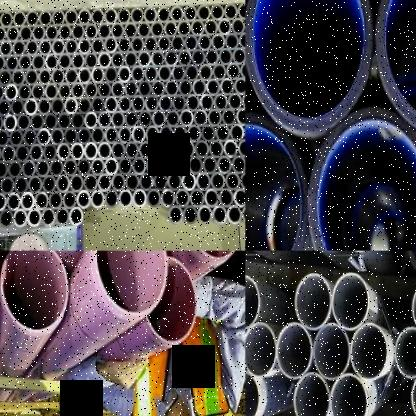pipe: (245, 0, 373, 132), (307, 108, 416, 250), (245, 113, 306, 251), (375, 0, 415, 135), (1, 250, 67, 330), (96, 250, 167, 312), (148, 256, 198, 343), (350, 322, 387, 381), (332, 272, 369, 331), (294, 273, 332, 330), (313, 323, 350, 380), (276, 323, 313, 379), (245, 322, 276, 377), (330, 372, 368, 416), (293, 372, 330, 416), (393, 326, 416, 378), (245, 275, 260, 331), (245, 370, 260, 416), (168, 204, 184, 226), (118, 188, 134, 209), (160, 188, 176, 209), (204, 188, 220, 209), (210, 171, 226, 192), (202, 155, 218, 176), (42, 142, 58, 163), (194, 139, 210, 160), (186, 123, 202, 144), (26, 207, 42, 228), (6, 191, 21, 213), (218, 187, 233, 209), (55, 206, 70, 228), (138, 172, 154, 192), (226, 205, 242, 225), (48, 190, 63, 211), (76, 189, 91, 210), (90, 189, 105, 210), (132, 188, 147, 209), (146, 188, 161, 209), (175, 188, 190, 209), (111, 172, 126, 193), (125, 172, 140, 193), (225, 171, 240, 192), (7, 159, 22, 180), (35, 158, 50, 179), (104, 156, 119, 177), (118, 156, 133, 177), (174, 155, 189, 176), (111, 140, 126, 161), (166, 139, 181, 160), (180, 139, 195, 160), (201, 123, 216, 144), (68, 206, 83, 227), (144, 94, 160, 113), (184, 63, 200, 82), (150, 49, 166, 68), (34, 191, 49, 211), (62, 190, 77, 210), (104, 189, 119, 209), (14, 175, 29, 195), (97, 173, 112, 193), (153, 172, 168, 192), (167, 172, 182, 192), (76, 157, 91, 177), (217, 155, 232, 175), (138, 140, 153, 160), (152, 140, 167, 160), (209, 139, 224, 159), (223, 139, 238, 159), (178, 78, 193, 98), (212, 62, 227, 82), (211, 32, 226, 52), (13, 208, 28, 228), (183, 205, 198, 225), (212, 205, 227, 225), (190, 188, 204, 209), (42, 174, 56, 195), (70, 173, 84, 194), (84, 172, 98, 193), (196, 171, 210, 192), (64, 157, 78, 178), (132, 156, 146, 177), (188, 155, 202, 176), (232, 154, 246, 175), (124, 140, 138, 161), (42, 207, 56, 228), (170, 34, 186, 52), (0, 176, 15, 195), (9, 128, 24, 147), (22, 128, 37, 147), (173, 125, 188, 144), (179, 109, 194, 128), (193, 108, 208, 127), (207, 108, 222, 127), (222, 108, 237, 127), (192, 78, 207, 97), (198, 63, 213, 82), (226, 62, 241, 81), (218, 47, 233, 66), (117, 36, 132, 55), (143, 35, 158, 54), (224, 31, 239, 50), (28, 175, 42, 195), (56, 174, 70, 194), (182, 172, 196, 192), (22, 159, 36, 179), (90, 157, 104, 177), (146, 156, 160, 176), (160, 156, 174, 176), (160, 124, 174, 144), (230, 123, 244, 143), (228, 92, 242, 112), (84, 80, 98, 100), (98, 80, 112, 100), (164, 48, 178, 68), (178, 48, 192, 68), (12, 38, 26, 58), (25, 38, 39, 58), (198, 205, 212, 225), (21, 191, 34, 212), (83, 142, 98, 160), (145, 125, 160, 143), (215, 124, 230, 142), (43, 82, 58, 100), (206, 78, 221, 96), (219, 78, 234, 96), (137, 50, 152, 68), (191, 48, 206, 66), (205, 48, 220, 66), (130, 36, 145, 54), (410, 371, 416, 416), (2, 144, 16, 163), (16, 144, 30, 163), (70, 142, 84, 161), (50, 127, 64, 146), (64, 127, 78, 146), (78, 127, 92, 146), (90, 126, 104, 145), (3, 113, 17, 132), (17, 113, 31, 132), (30, 113, 44, 132), (44, 112, 58, 131), (71, 111, 85, 130), (84, 111, 98, 130), (98, 110, 112, 129), (111, 110, 125, 129), (124, 110, 138, 129), (152, 109, 166, 128), (166, 109, 180, 128), (24, 98, 38, 117), (64, 96, 78, 115), (78, 96, 92, 115), (104, 95, 118, 114), (118, 94, 132, 113), (131, 94, 145, 113), (158, 94, 172, 113), (200, 93, 214, 112), (214, 93, 228, 112), (71, 81, 85, 100), (111, 80, 125, 99), (152, 79, 166, 98), (164, 79, 178, 98), (78, 66, 92, 85), (104, 65, 118, 84), (118, 65, 132, 84), (158, 64, 172, 83), (171, 63, 185, 82), (18, 53, 32, 72), (58, 52, 72, 71), (38, 38, 52, 57), (198, 33, 212, 52), (150, 20, 164, 39), (90, 7, 104, 26), (0, 208, 14, 227), (411, 280, 416, 333), (50, 158, 63, 178), (232, 16, 245, 36), (157, 35, 172, 52), (98, 142, 112, 160), (36, 128, 50, 146), (104, 126, 118, 144), (118, 126, 132, 144), (132, 126, 146, 144), (57, 112, 71, 130), (138, 110, 152, 128), (90, 96, 104, 114), (172, 94, 186, 112), (186, 94, 200, 112), (4, 84, 18, 102), (32, 82, 46, 100), (58, 82, 72, 100), (124, 80, 138, 98), (138, 80, 152, 98), (24, 68, 38, 86), (38, 68, 52, 86), (51, 68, 65, 86), (64, 68, 78, 86), (91, 66, 105, 84), (144, 64, 158, 82), (4, 54, 18, 72), (44, 53, 58, 71), (84, 52, 98, 70), (124, 50, 138, 68), (232, 46, 246, 64), (51, 38, 65, 56), (64, 38, 78, 56), (78, 38, 92, 56), (90, 37, 104, 55), (104, 36, 118, 54), (184, 34, 198, 52), (32, 24, 46, 42), (44, 24, 58, 42), (58, 23, 72, 41), (84, 23, 98, 41), (72, 22, 86, 40), (98, 22, 112, 40), (12, 10, 26, 28), (25, 9, 39, 27), (38, 9, 52, 27), (78, 8, 92, 26), (104, 7, 118, 25), (116, 6, 130, 24), (130, 6, 144, 24), (144, 6, 158, 24), (156, 6, 170, 24), (170, 5, 184, 23), (198, 4, 212, 22), (210, 4, 224, 22), (57, 142, 70, 161), (11, 97, 24, 116), (38, 97, 51, 116), (18, 83, 31, 102), (32, 53, 45, 72), (124, 21, 137, 40), (218, 17, 231, 36), (0, 68, 12, 88), (72, 53, 86, 70), (18, 25, 32, 42), (64, 9, 78, 26), (52, 9, 66, 26), (184, 5, 198, 22), (30, 144, 43, 162), (51, 97, 64, 115), (131, 65, 144, 83), (98, 52, 111, 70), (138, 21, 151, 39), (164, 20, 177, 38), (204, 18, 217, 36), (0, 10, 13, 28), (224, 2, 237, 20), (234, 187, 245, 208), (178, 19, 190, 38), (192, 18, 204, 37), (6, 26, 20, 42), (0, 40, 13, 57), (12, 68, 24, 86), (112, 50, 124, 68), (112, 22, 124, 40), (0, 98, 11, 117), (234, 77, 245, 95), (0, 129, 10, 148), (0, 159, 9, 179), (236, 107, 245, 127), (237, 137, 245, 158), (0, 191, 6, 212), (238, 2, 245, 20), (239, 61, 245, 80), (239, 31, 245, 50), (0, 25, 6, 43), (240, 171, 245, 191), (0, 54, 5, 71), (241, 204, 245, 224), (0, 83, 4, 102), (0, 113, 3, 132), (242, 92, 245, 111)
